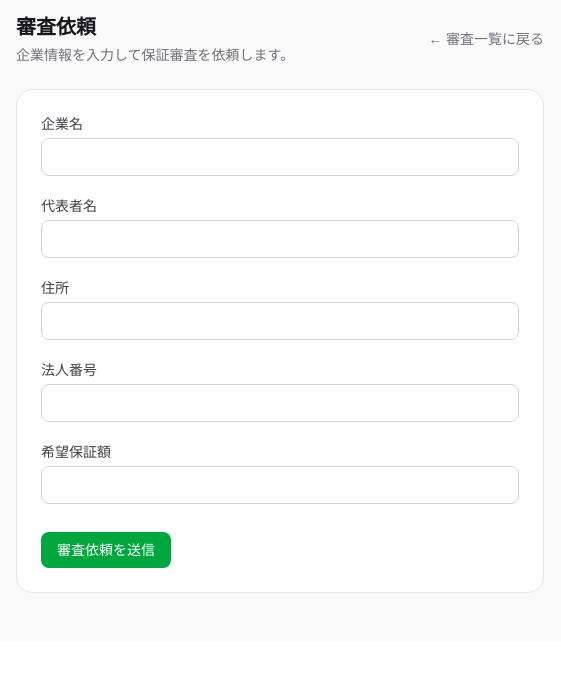
Scenario: ExamNewPage › APIがエラーを返した場合はエラーメッセージを表示する
The width and height of the screenshot is (561, 678).
Type "エラー会社" into the field labelled "企業名" at (280, 157), box top-left (41, 138), bottom-right (519, 176)
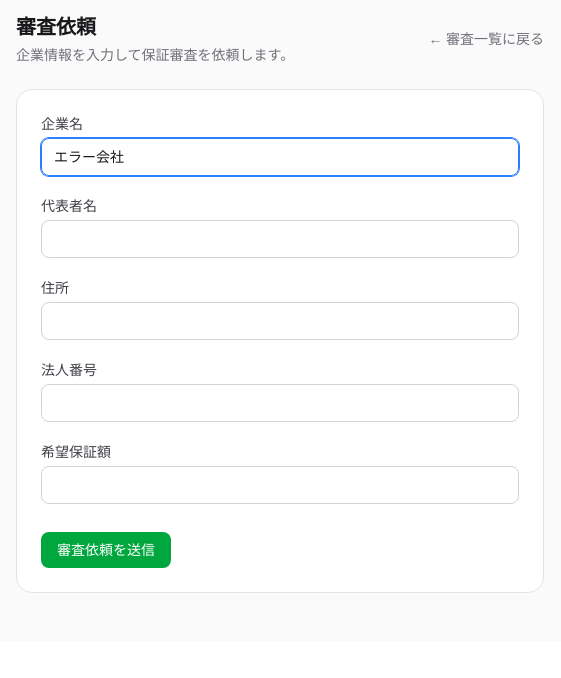
Type "エラー太郎" into the field labelled "代表者名" at (280, 239), box top-left (41, 220), bottom-right (519, 258)
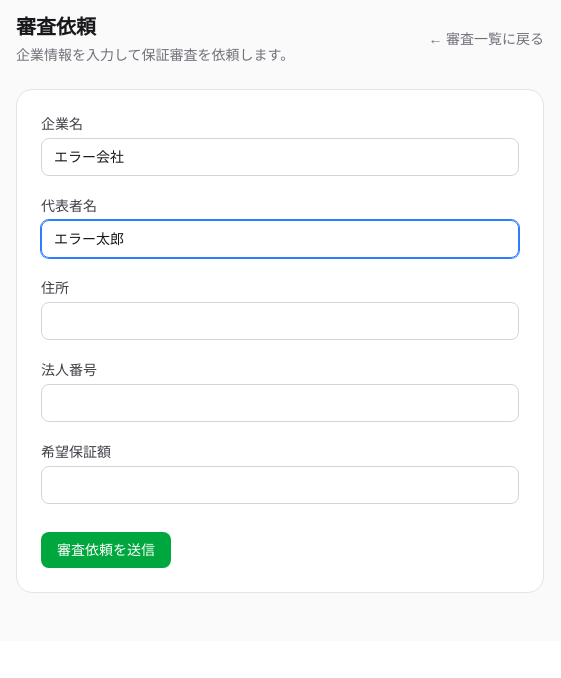
Type "大阪府" into the field labelled "住所" at (280, 321), box top-left (41, 302), bottom-right (519, 340)
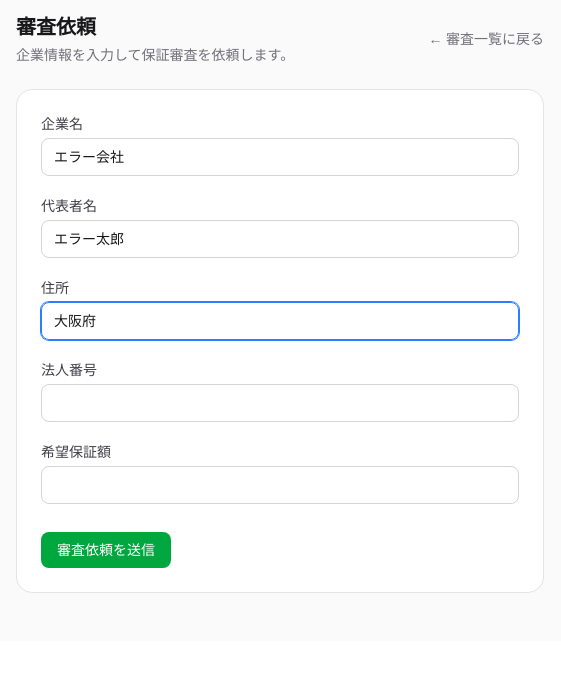
Type "9999999999999" into the field labelled "法人番号" at (280, 403), box top-left (41, 384), bottom-right (519, 422)
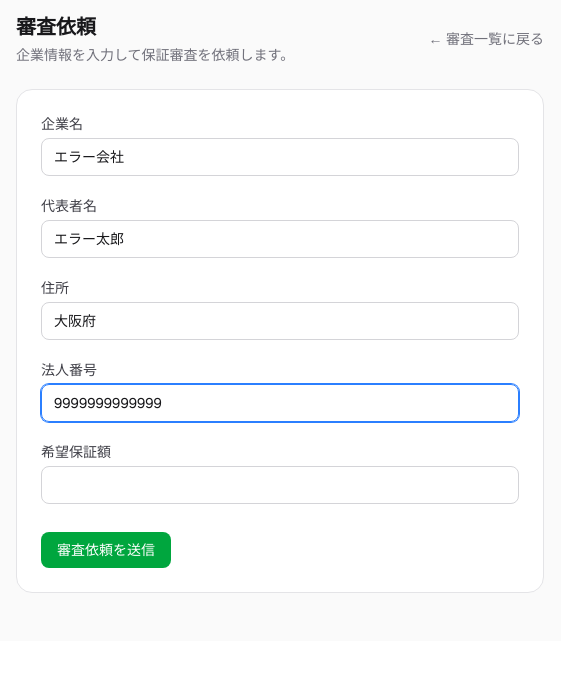
Type "1000" into the number field labelled "希望保証額" at (280, 485), box top-left (41, 466), bottom-right (519, 504)
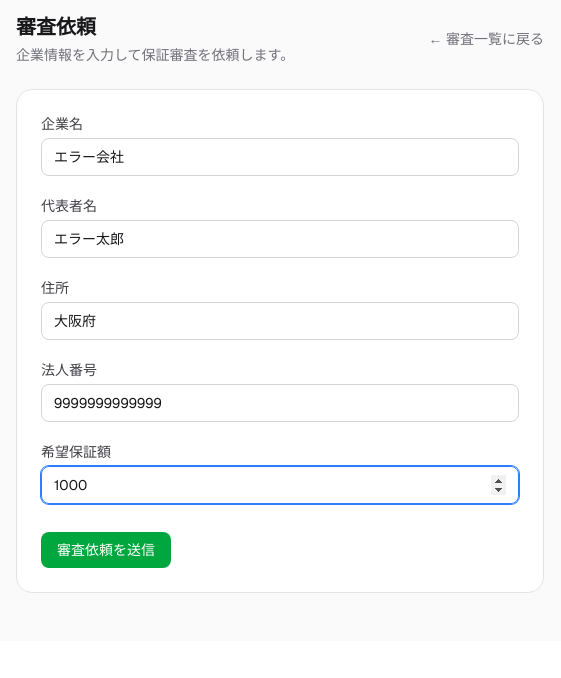
Click the button "審査依頼を送信" at (106, 550), box top-left (41, 532), bottom-right (171, 568)
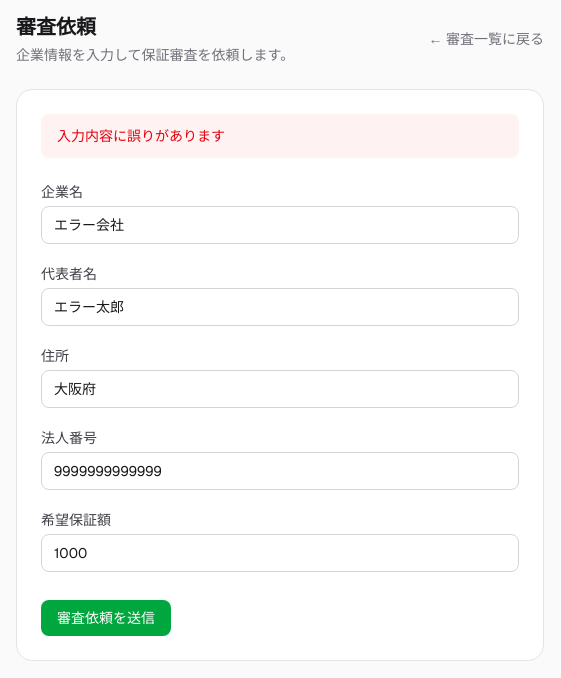
Result: the text "入力内容に誤りがあります" is shown at top-left (41, 114), bottom-right (519, 158)
